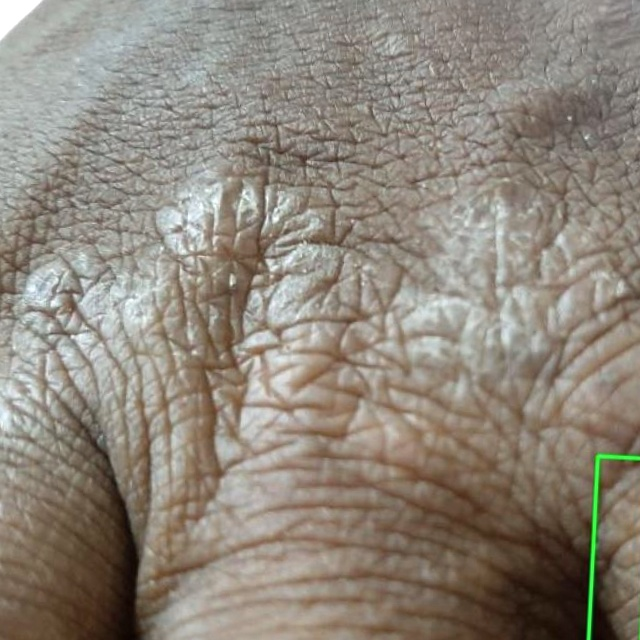Contact Dermatitis: (588, 456, 639, 639)
